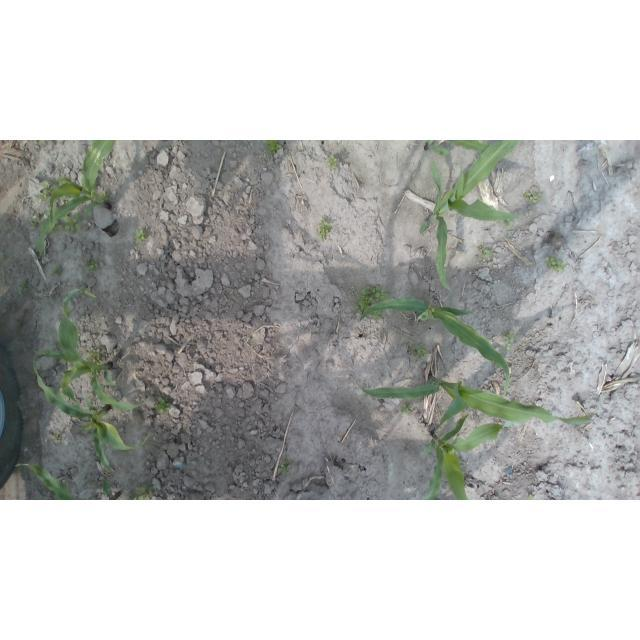Maize: (358, 296, 511, 398), (420, 141, 523, 292), (33, 288, 156, 413), (33, 352, 152, 473), (355, 371, 604, 426), (420, 410, 523, 500), (38, 141, 117, 258), (15, 462, 122, 500), (423, 140, 496, 156)
Weeds: (355, 285, 389, 320), (59, 213, 81, 232), (317, 216, 333, 242), (544, 256, 566, 273), (153, 396, 172, 414), (36, 182, 52, 201), (522, 189, 542, 204), (134, 486, 154, 500), (502, 331, 515, 351), (264, 140, 282, 154), (412, 345, 428, 360), (278, 460, 293, 475), (327, 154, 340, 170), (88, 350, 101, 365), (134, 229, 146, 244), (84, 261, 100, 272), (478, 246, 491, 258), (30, 215, 40, 230), (18, 283, 30, 294), (51, 433, 62, 444), (401, 404, 412, 414), (53, 266, 63, 277), (100, 191, 109, 201), (526, 494, 534, 500), (39, 140, 45, 146), (251, 333, 257, 339)
